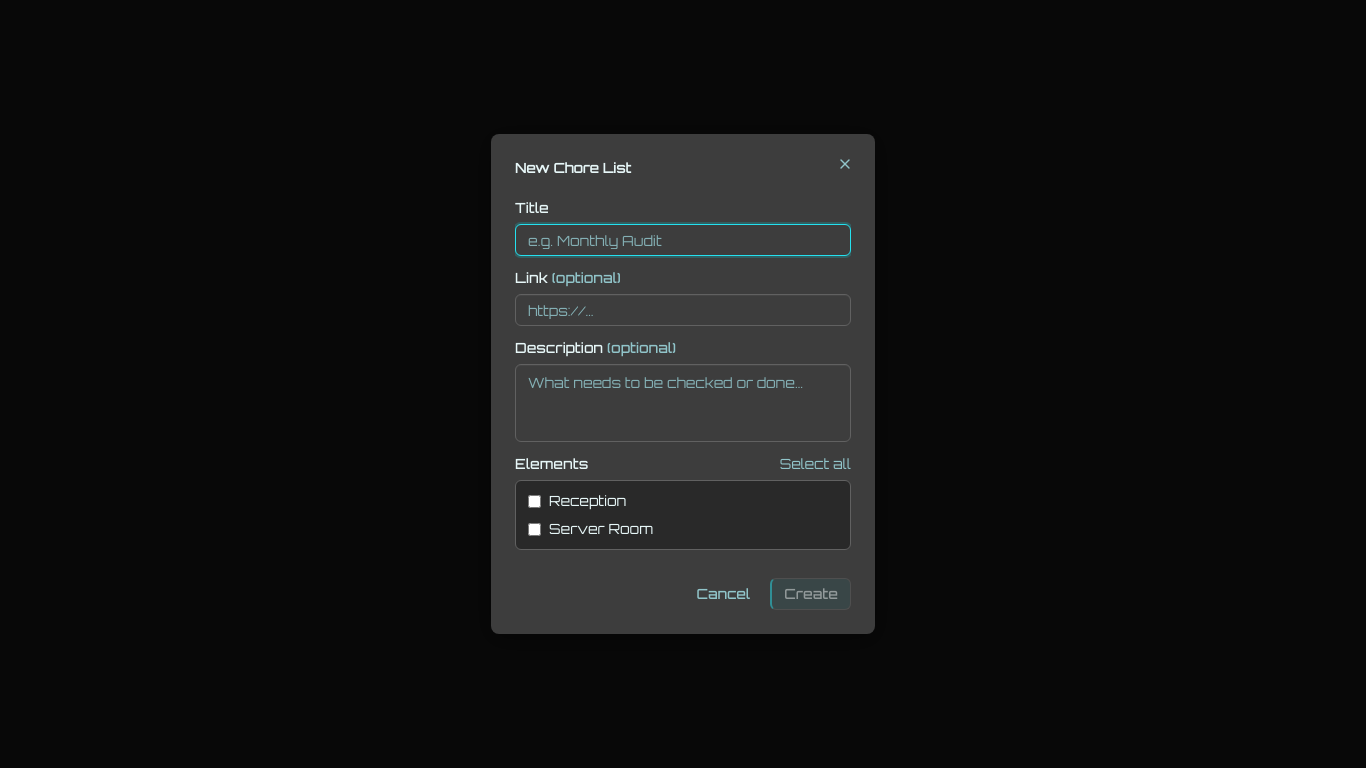
Test case: CreateChoreListDialog – rendering › enables Create once a title is typed
Type "Monthly Audit" into the field labelled "Title".
click(683, 240); type("Monthly Audit")  # box [515,224,851,256]
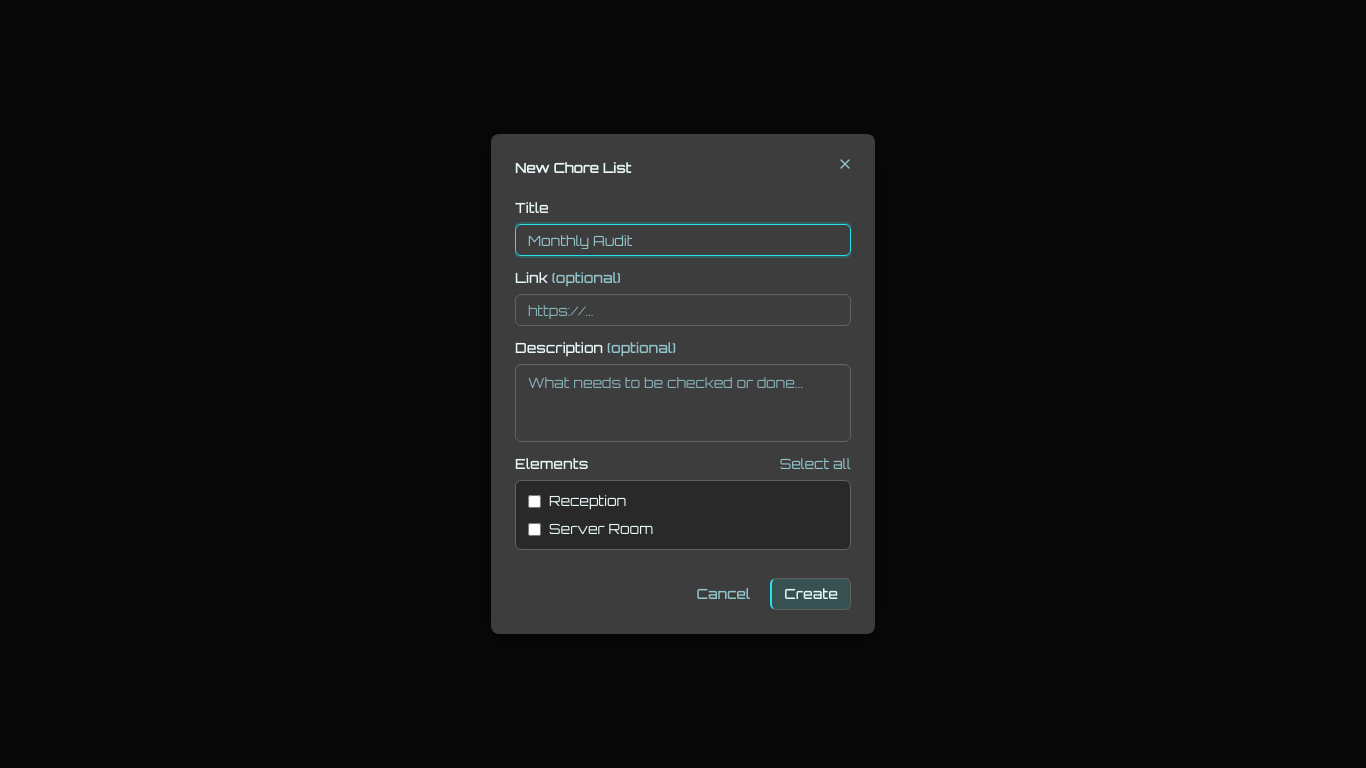
Result: the button "Create" is enabled at [770,578,851,610]
